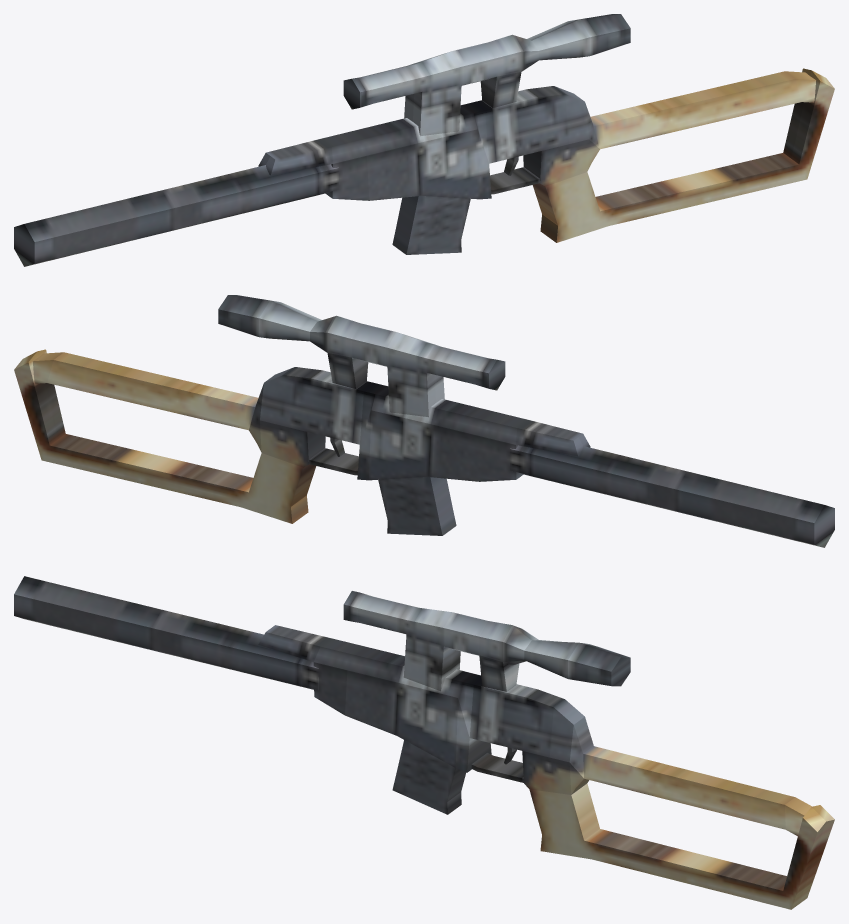
Rendered from weapon_dmr.glb.
The picture shows the model from 3 angles, top to bottom: view 1: azimuth 30°, elevation 25°; view 2: azimuth 150°, elevation 25°; view 3: azimuth 330°, elevation 25°; orthographic projection.
Visible parts, largest first — view 1: Cube; view 2: Cube; view 3: Cube.
Boxes of the visible parts, bbox=[...] form: Cube: bbox=[14, 14, 834, 266]; Cube: bbox=[14, 295, 834, 547]; Cube: bbox=[14, 576, 834, 909].
Size of the model in its own units: 459 by 115 by 24.25.
Materials: 1 (1 with a texture image).
